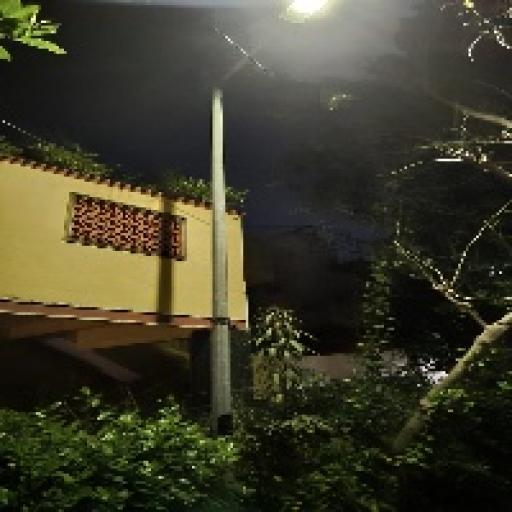Working: (273, 0, 337, 24)
